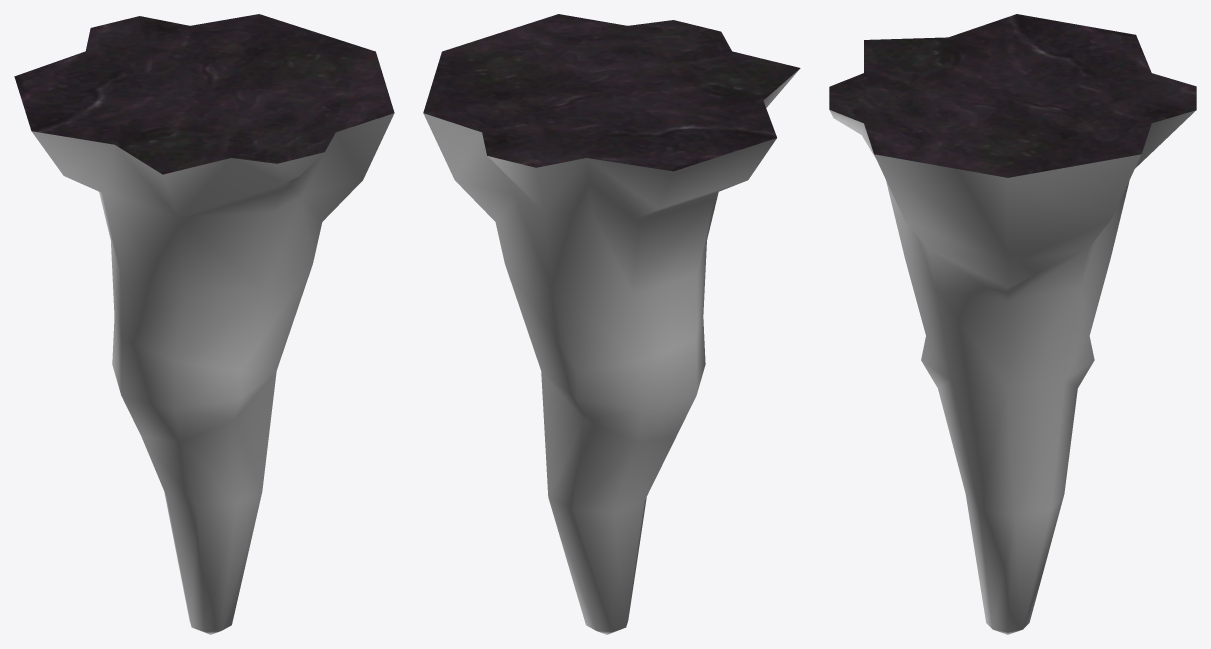
The model's file is cave_stalactite_05.fbx.
The picture shows the model from 3 angles, left to right: view 1: azimuth 30°, elevation 25°; view 2: azimuth 150°, elevation 25°; view 3: azimuth 270°, elevation 25°; orthographic projection.
Parts seen in each view (by area): view 1: cave_stalactite_05-0; view 2: cave_stalactite_05-0; view 3: cave_stalactite_05-0.
Boxes of the visible parts, x1=… form: cave_stalactite_05-0: x1=14, y1=14, x2=394, y2=634; cave_stalactite_05-0: x1=423, y1=14, x2=800, y2=634; cave_stalactite_05-0: x1=829, y1=14, x2=1196, y2=634.
Size of the model in its own units: 2.79 by 4.26 by 2.64.
